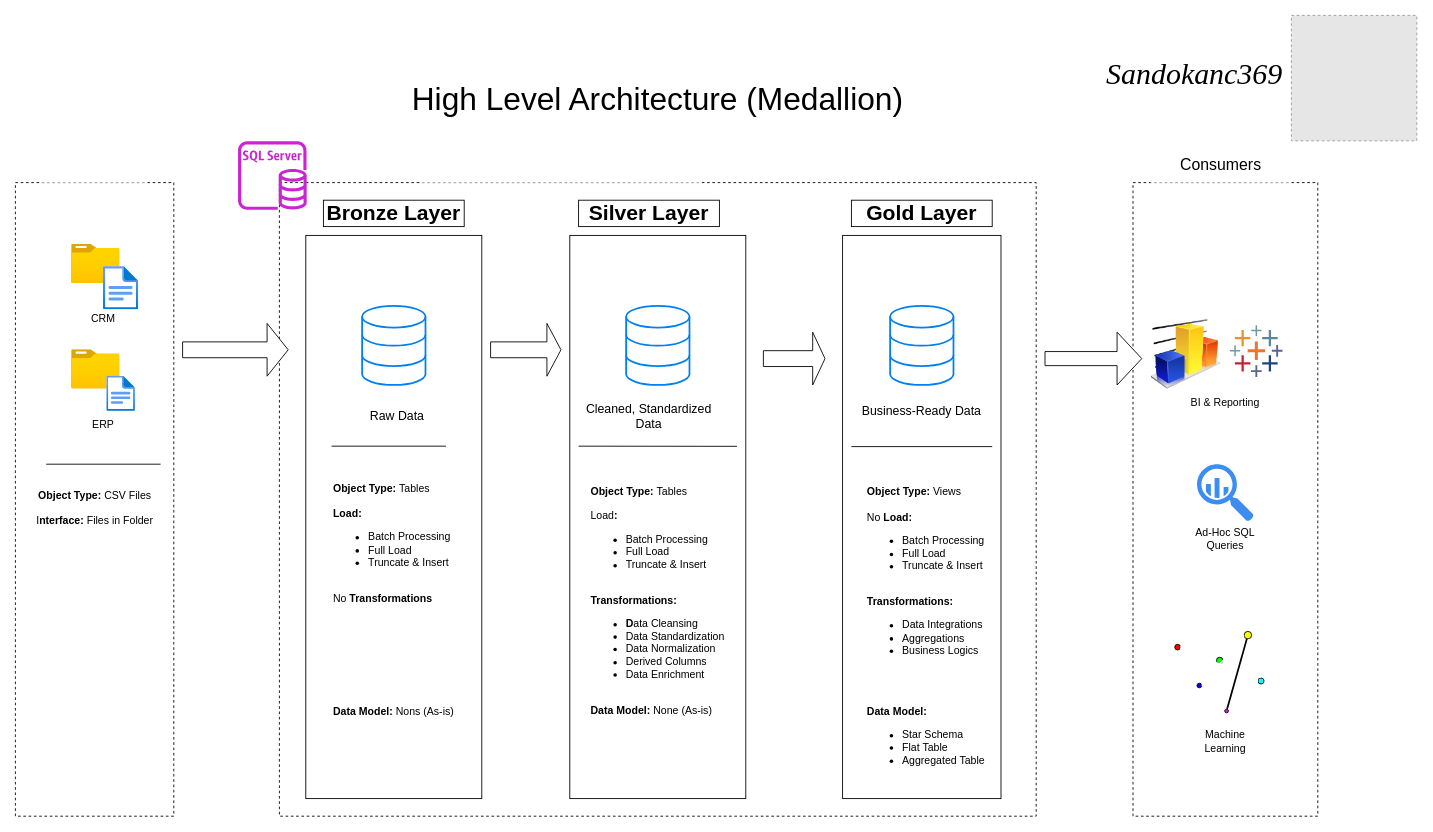
The diagram is 1433 pixels wide and 832 high, and some of its shapes have lost their labels. Grey dashed boxes stand in for pictures. Each missing label, with the centre of its shape:
"Data Warehouse" belongs at pixel 560 164.
"Sources" belongs at pixel 94 164.
